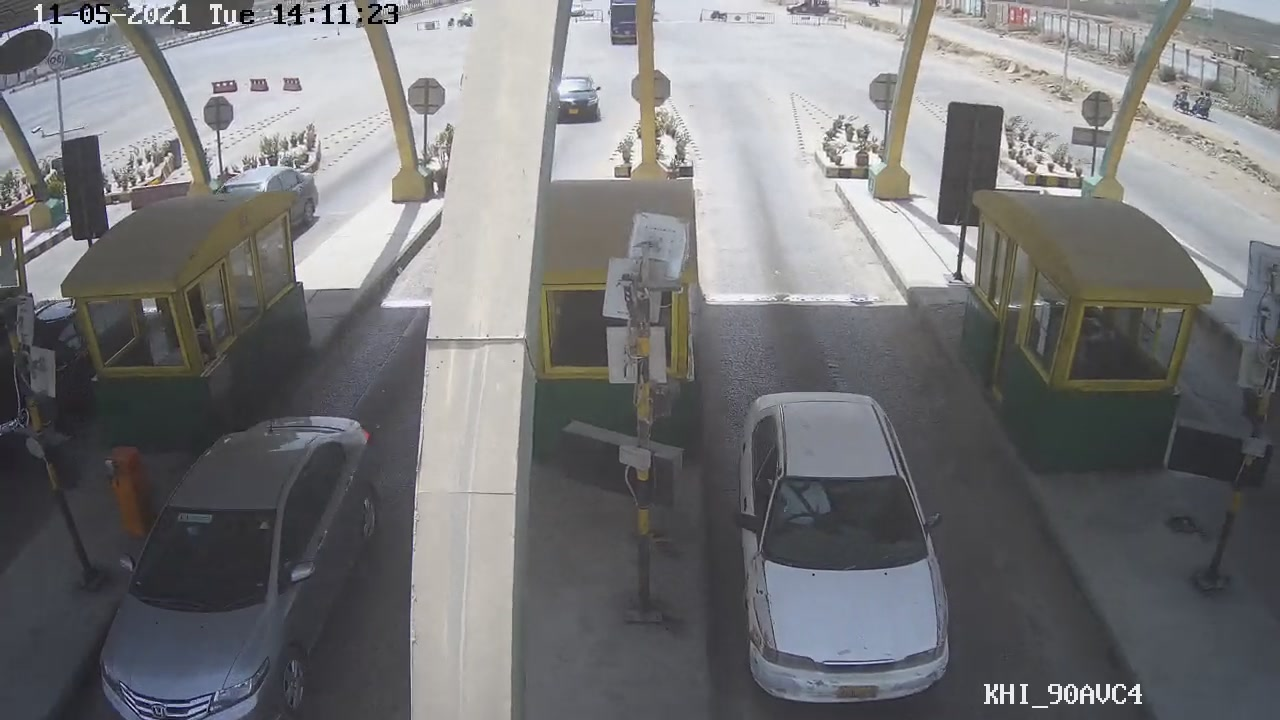F1: (725, 385, 955, 712)
